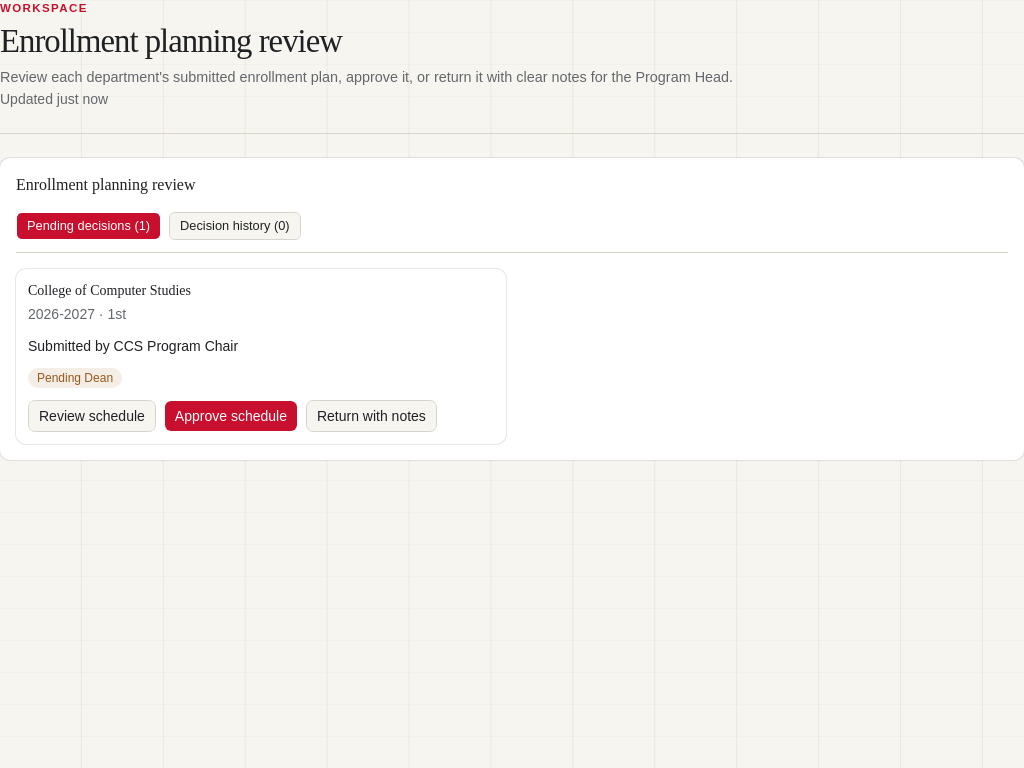
Scenario: ScheduleDecisionWorkspace › shows the submitting department and opens its submitted schedule
The image size is (1024, 768).
Expected: the heading "College of Computer Studies" is shown, [28, 283, 191, 298]
Expected: the text "2026-2027 · 1st" is shown, [28, 306, 126, 322]
Click the button "Review schedule". click: coordinates (92, 416)
box: [28, 400, 156, 432]
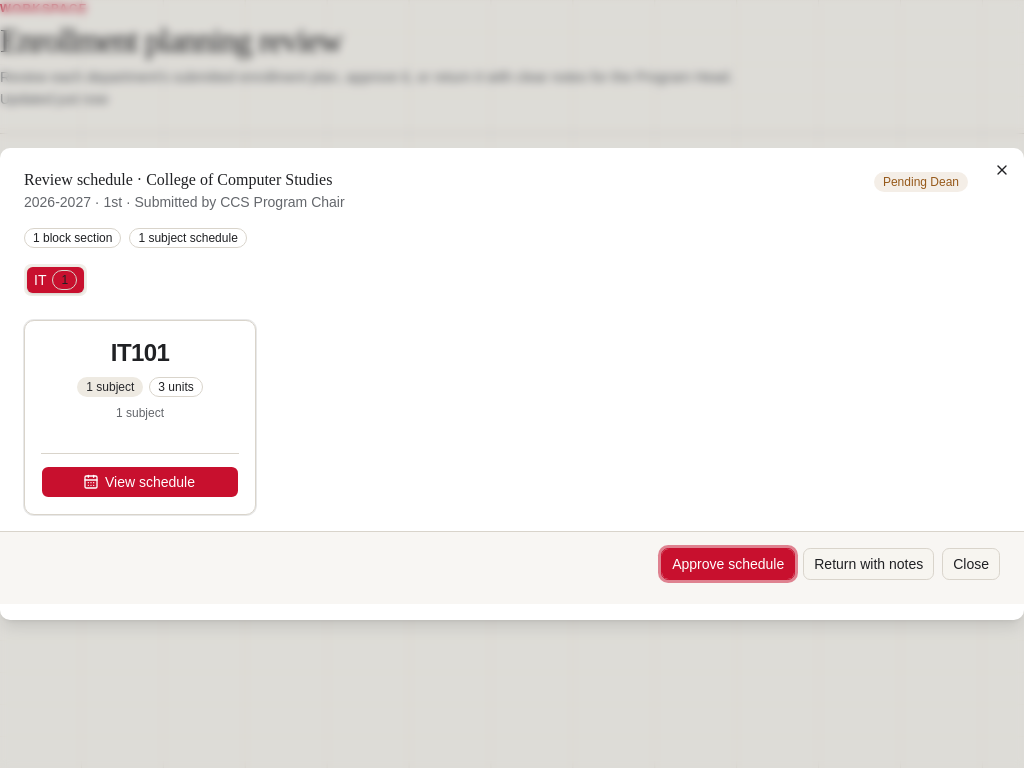
Expected: the dialog "Review schedule · College of Computer Studies" is shown
Expected: the element named "IT101 section" is shown, [24, 320, 256, 515]
Click the button "View schedule". click: coordinates (140, 482)
box: [41, 466, 239, 498]
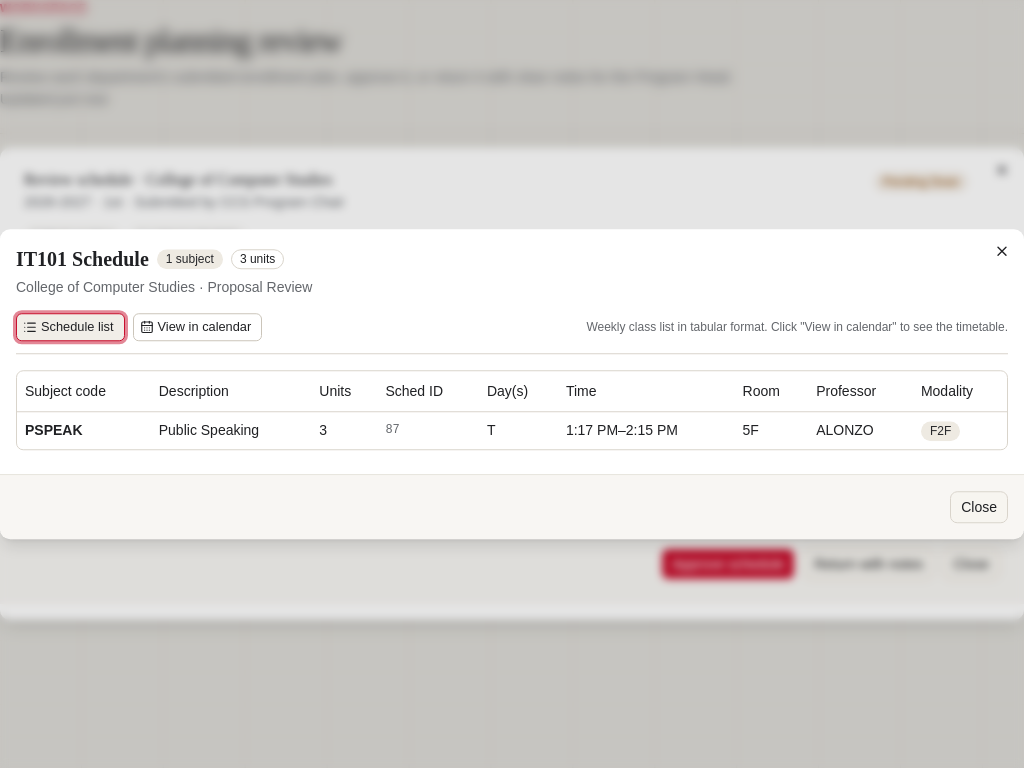
Expected: the dialog "IT101 Schedule" is shown, [0, 229, 1023, 539]
Expected: the text "Public Speaking" is shown, [151, 411, 311, 449]
Expected: the text "ALONZO" is shown, [808, 411, 913, 449]
